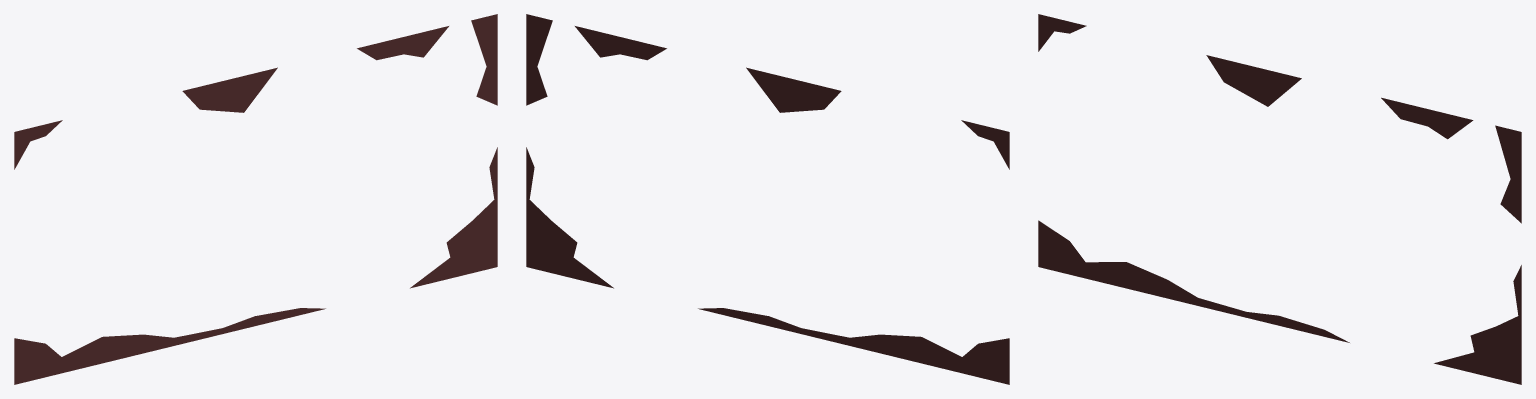
The model's file is Jerry Window Broken.fbx.
The picture shows the model from 3 angles, left to right: view 1: azimuth 30°, elevation 25°; view 2: azimuth 150°, elevation 25°; view 3: azimuth 330°, elevation 25°; orthographic projection.
Parts seen in each view (by area): view 1: Jerry Window Broken; view 2: Jerry Window Broken; view 3: Jerry Window Broken.
Boxes of the visible parts, bbox=[...] form: Jerry Window Broken: bbox=[14, 14, 497, 384]; Jerry Window Broken: bbox=[526, 14, 1009, 384]; Jerry Window Broken: bbox=[1038, 14, 1521, 384].
Size of the model in its own units: 200 by 0 by 100.
